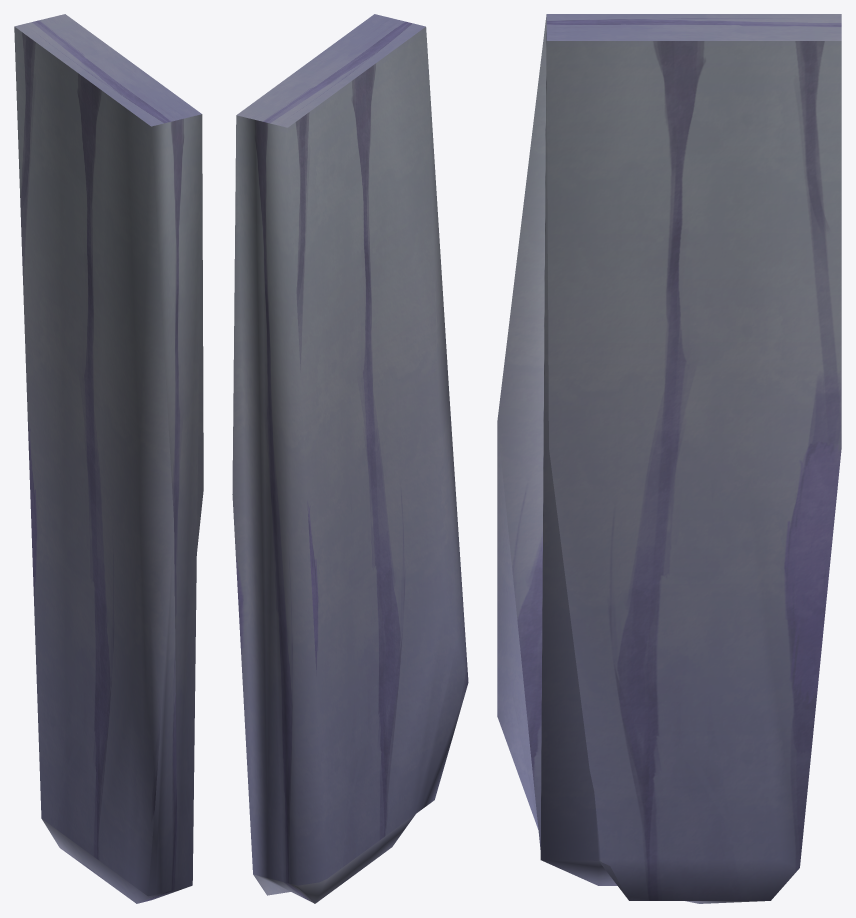
Rendered from rockeroo_small_bald_snatched_evil.glb.
3 views of the same model, side by side, from view 1: azimuth 30°, elevation 25°; view 2: azimuth 150°, elevation 25°; view 3: azimuth 270°, elevation 25° (orthographic). The views are drawn at different scales.
Parts seen in each view (by area): view 1: rockeroo_small_bald_snatched.001; view 2: rockeroo_small_bald_snatched.001; view 3: rockeroo_small_bald_snatched.001.
Part boxes in pixels (left/top/right/bottom): rockeroo_small_bald_snatched.001: left=14, top=14, right=203, bottom=903; rockeroo_small_bald_snatched.001: left=232, top=14, right=468, bottom=903; rockeroo_small_bald_snatched.001: left=497, top=14, right=841, bottom=903.
Size of the model in its own units: 2.13 by 20.55 by 7.38.
1 material, 1 textured.
